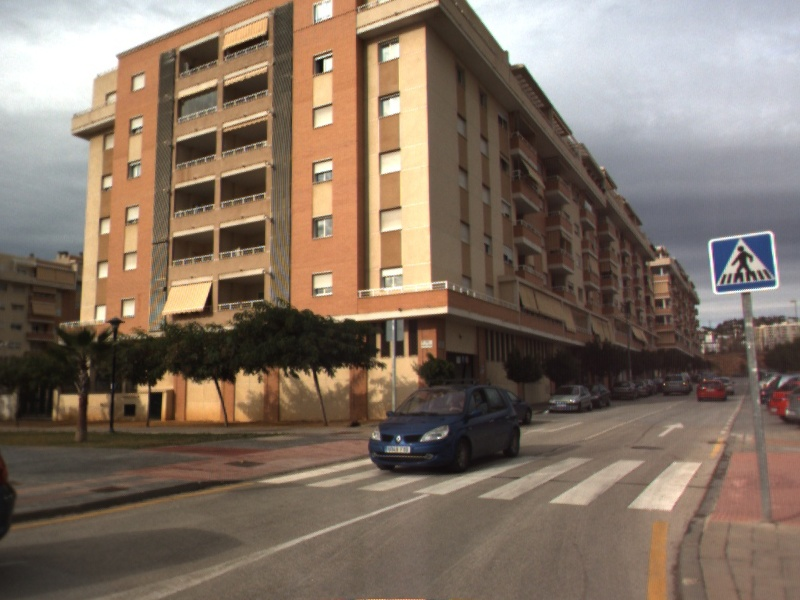STRAIGHT: (655, 420, 686, 439)
